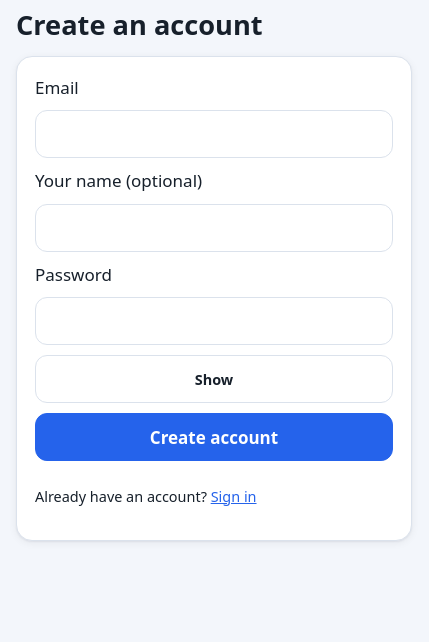
Test: SignupPage › hints the rules while typing and shows the server's reasons
Type "short" into the password field labelled "Password" at (214, 321), box [35,297,393,345]
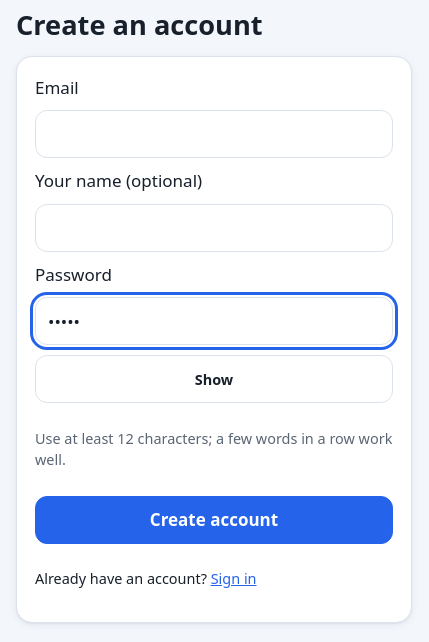
Clear the password field labelled "Password" at (214, 321), box [35,297,393,345]
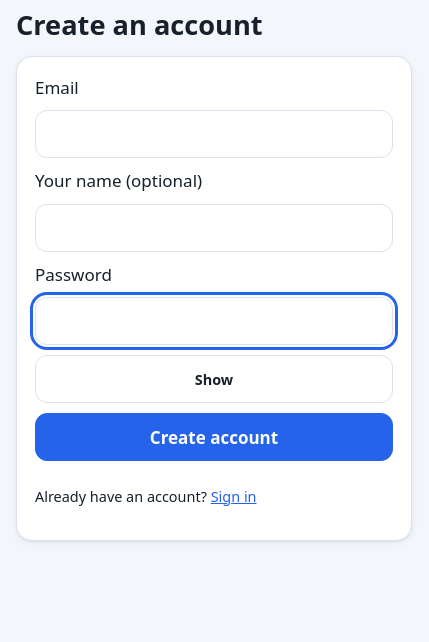
Type "ana@shop.example" into the field labelled "Email" at (214, 134), box [35,110,393,158]
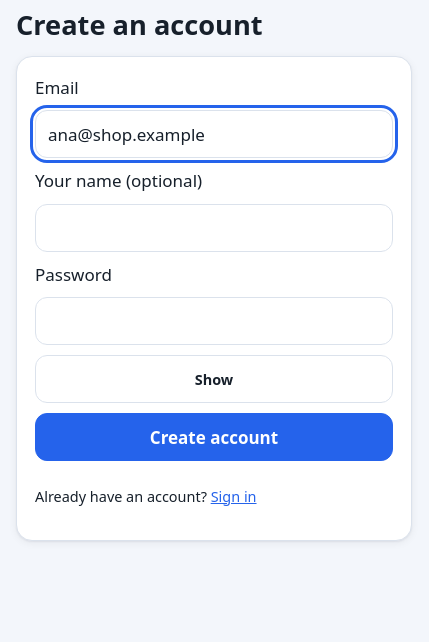
Type "password1234" into the password field labelled "Password" at (214, 321), box [35,297,393,345]
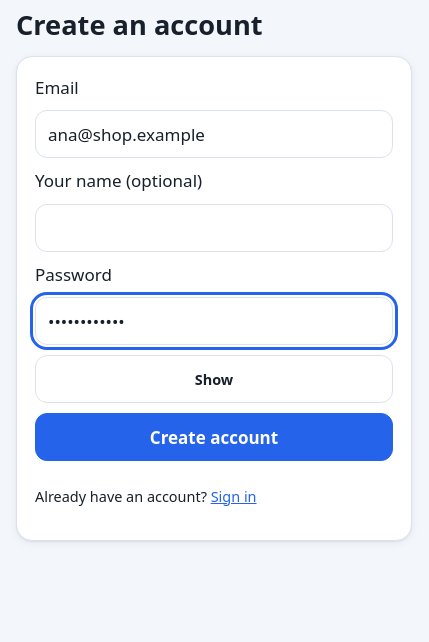
Click the button "Create account" at (214, 437), box [35,413,393,461]
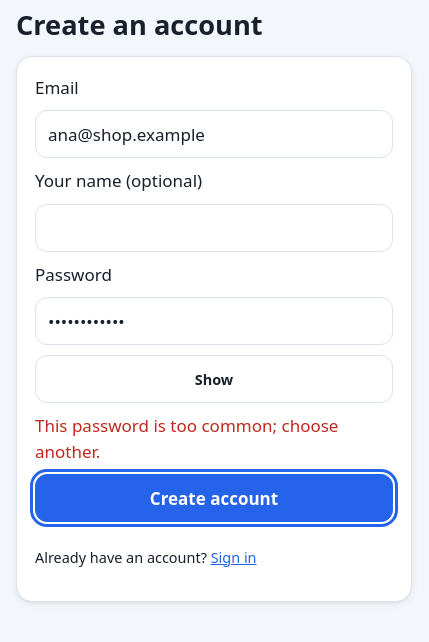
Expected: the text "This password is too common; choose another." is shown, [35,414,338,463]
